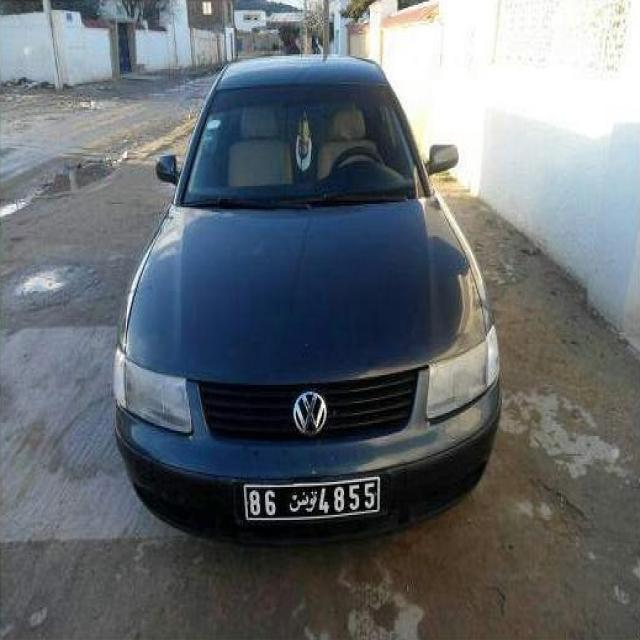licence plate: (247, 481, 377, 518)
